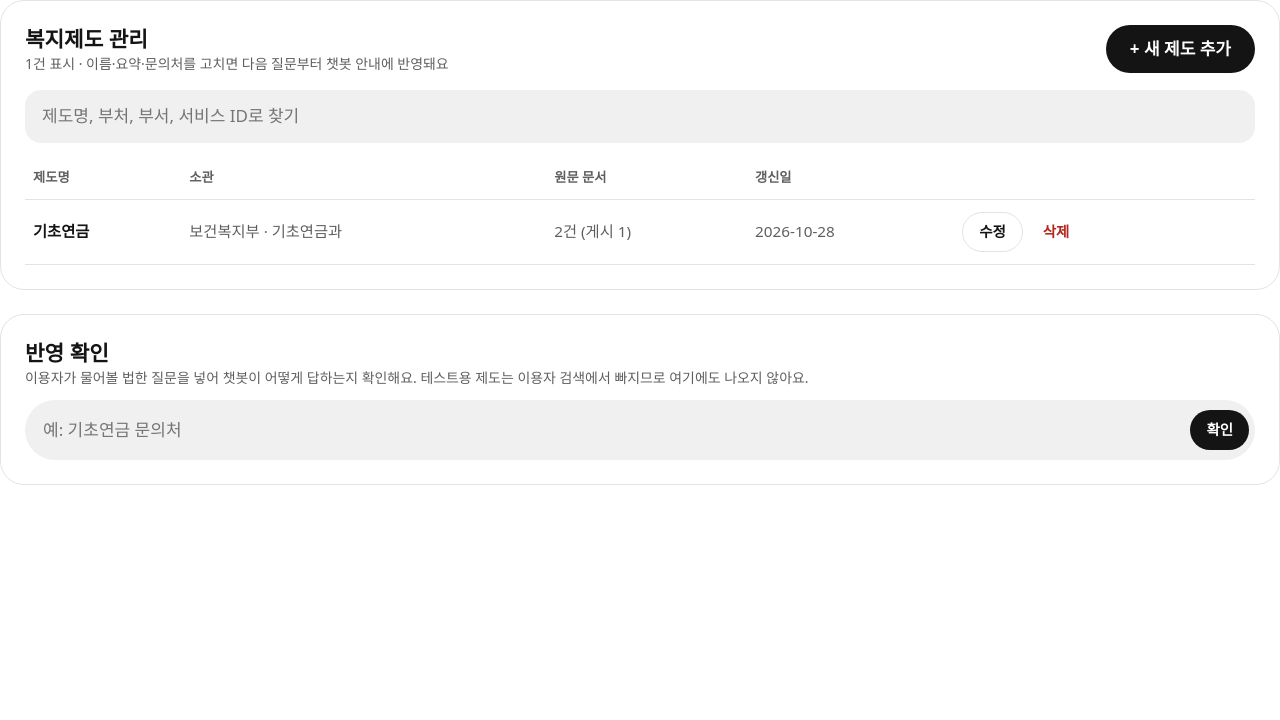
제도 관리와 원문 문서 › 원문 문서 수를 보여주고, 문서가 있는 제도는 이름과 서비스 ID를 잠근다
The width and height of the screenshot is (1280, 720).
Expected: the row named "기초연금 수정" shows "2건 (게시 1)", top-left (25, 200), bottom-right (1255, 265)
Click the button with aria-label "기초연금 수정".
click(992, 232)  # box top-left (962, 212), bottom-right (1023, 252)
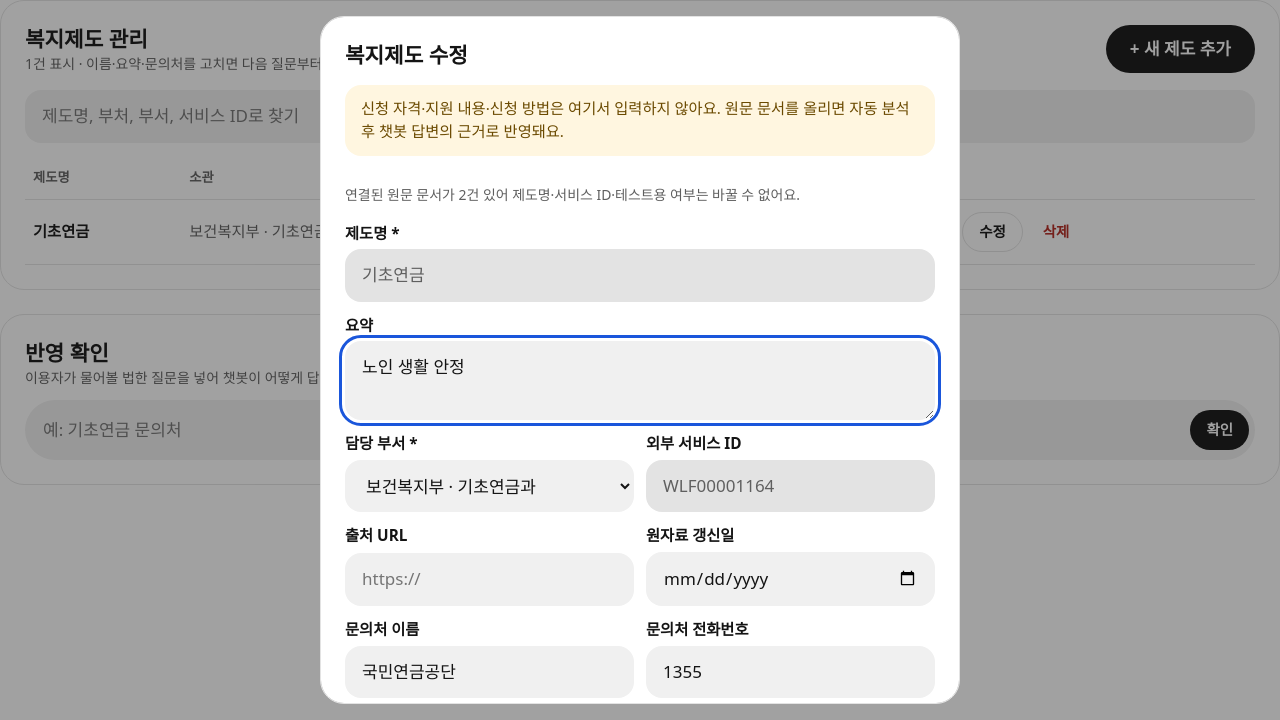
Expected: the field labelled "제도명 *" is disabled, top-left (345, 249), bottom-right (935, 302)
Expected: the field labelled "외부 서비스 ID" is disabled, top-left (646, 460), bottom-right (935, 512)
Expected: the text box labelled "요약" is enabled, top-left (345, 341), bottom-right (935, 420)
